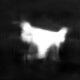plane: (17, 19, 70, 62)
